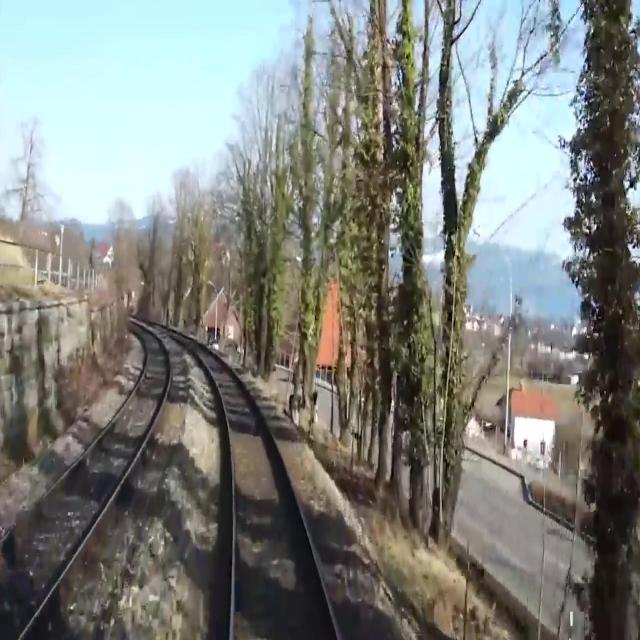rail-track: (0, 322, 169, 639), (170, 331, 336, 639)
